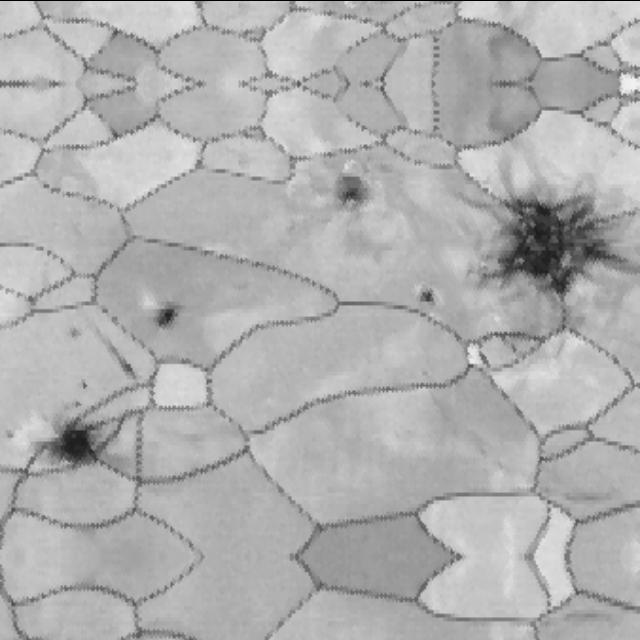good_void: (463, 156, 630, 332), (30, 400, 111, 475), (316, 159, 384, 232), (139, 292, 188, 341), (99, 336, 144, 386), (415, 280, 438, 308), (63, 320, 86, 344), (1, 422, 20, 441), (77, 375, 92, 391), (73, 400, 84, 411)
